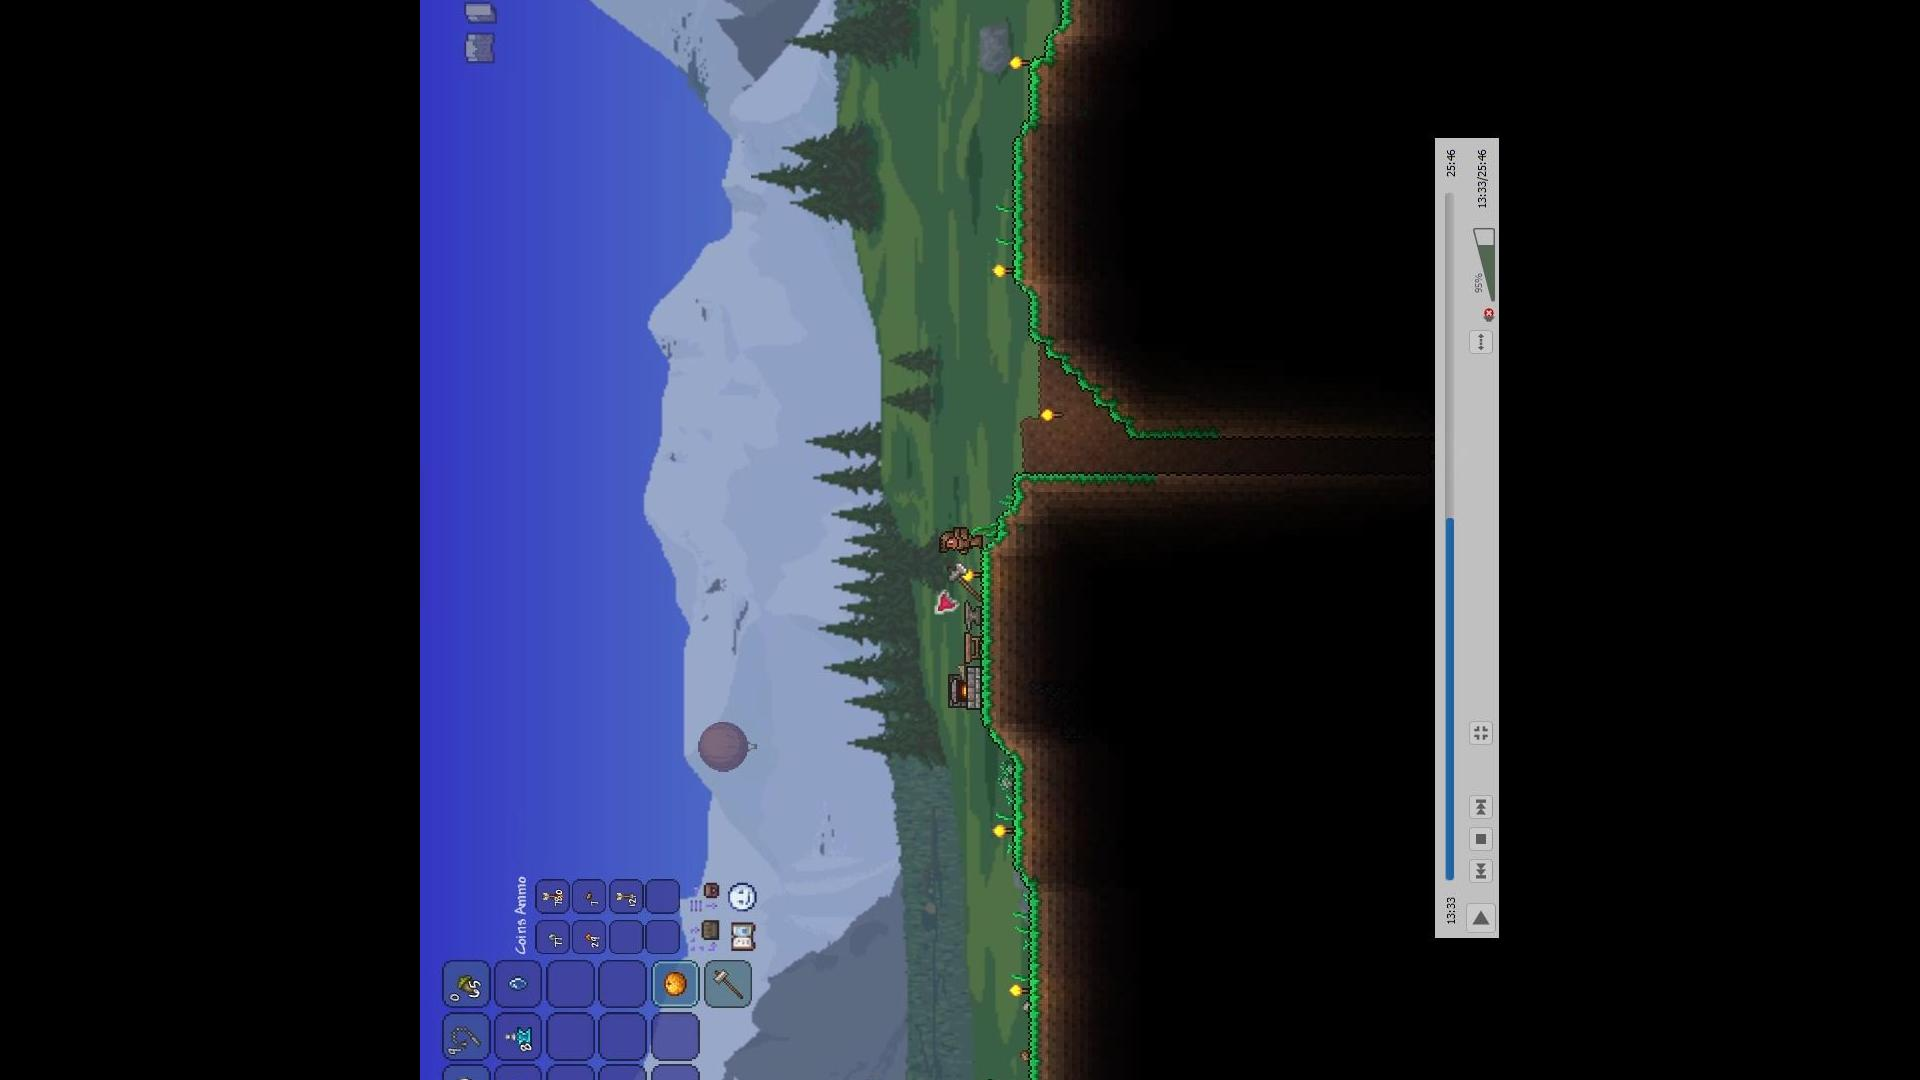anvil: (961, 603, 984, 633)
furnace: (942, 659, 984, 713)
recallP: (498, 1027, 535, 1050)
